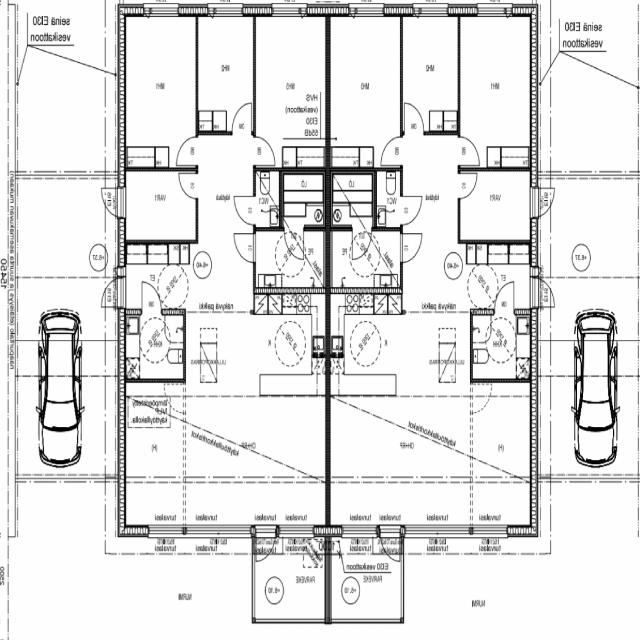door: (256, 525, 277, 567), (97, 277, 126, 307), (97, 188, 126, 218), (530, 277, 559, 307), (530, 188, 558, 216), (381, 525, 400, 566), (352, 225, 372, 260), (142, 281, 162, 315), (233, 196, 256, 225), (495, 280, 514, 315), (400, 233, 422, 263), (285, 225, 304, 259), (232, 103, 252, 135), (458, 137, 480, 166), (177, 137, 199, 165), (381, 137, 403, 165), (405, 102, 424, 134), (253, 138, 274, 166), (234, 234, 255, 262), (401, 197, 422, 224), (180, 173, 198, 198), (458, 174, 476, 198), (530, 267, 545, 277), (111, 267, 126, 276)
